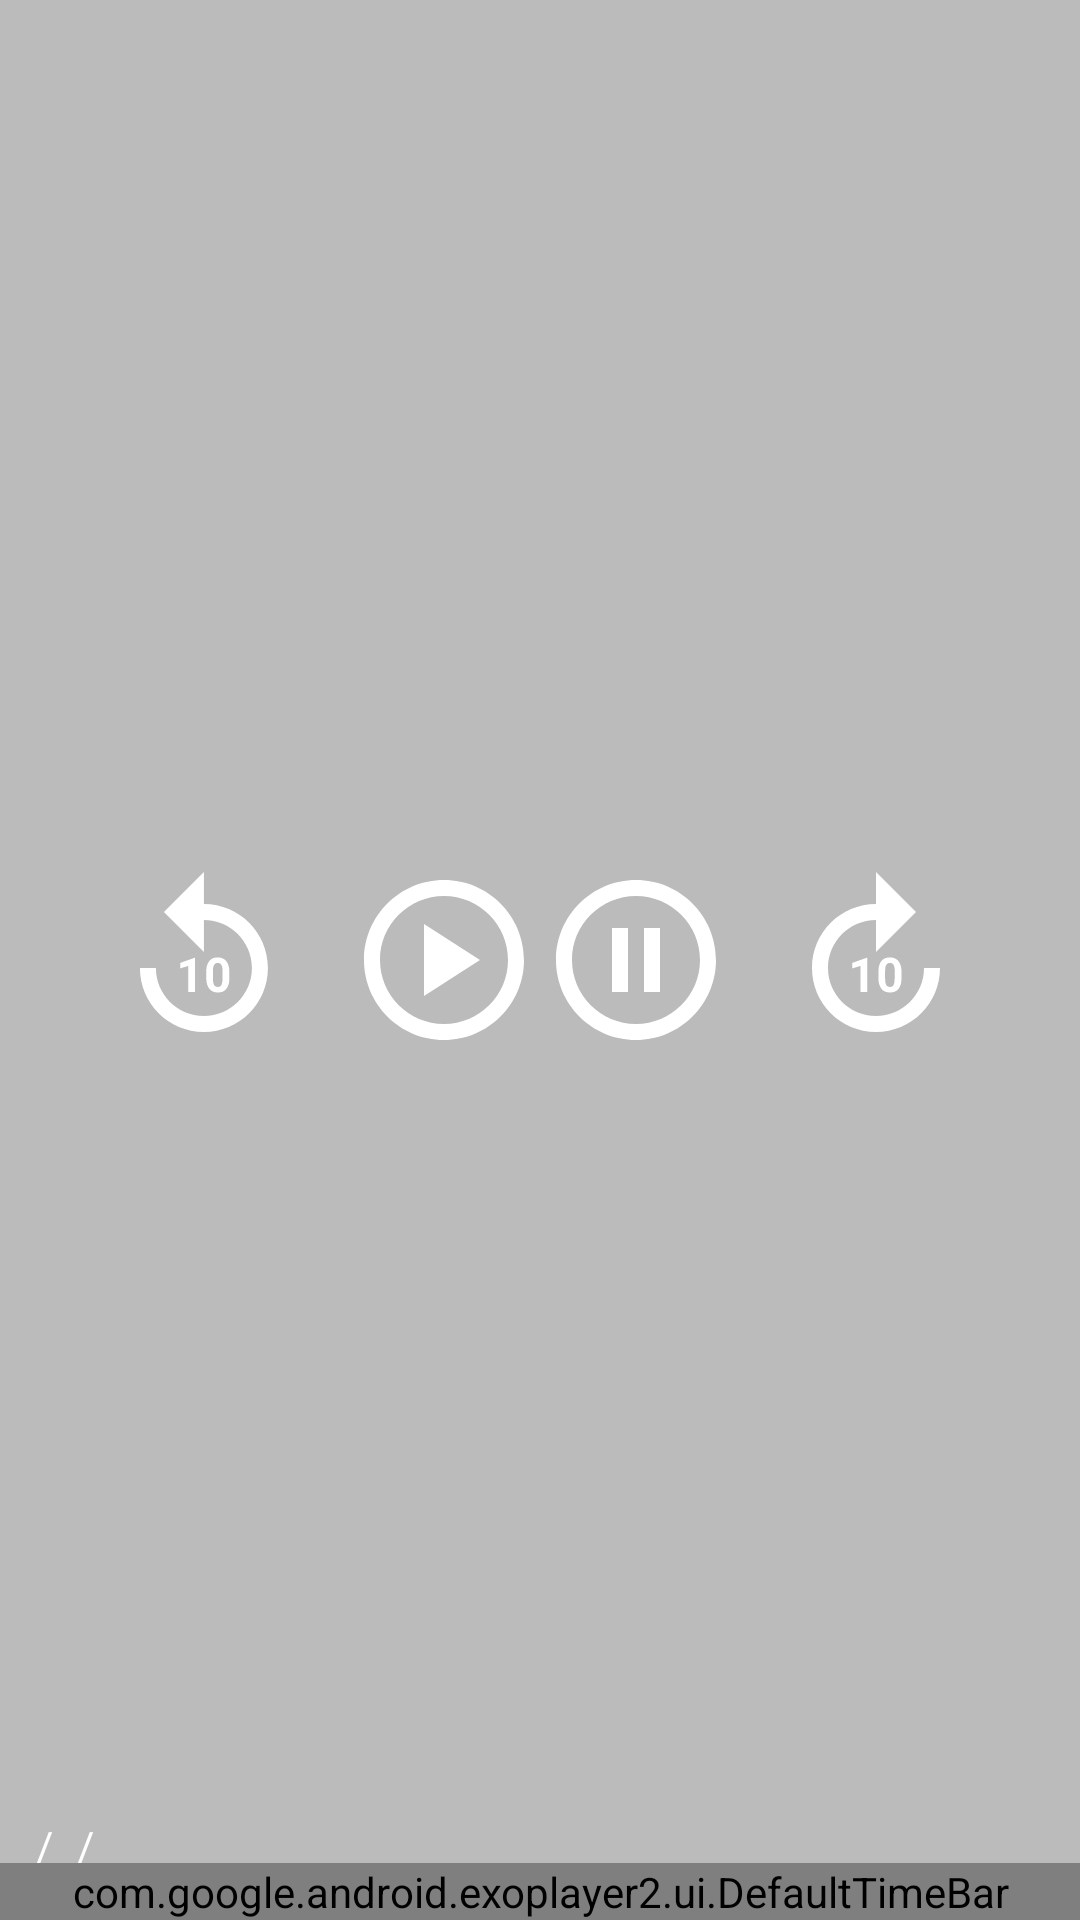

Screen size 1080px×1920px. Icon name, then its center in pixels as [x,y]:
forward: [876,952]
pause: [636,960]
play: [444,960]
replay: [204,952]
